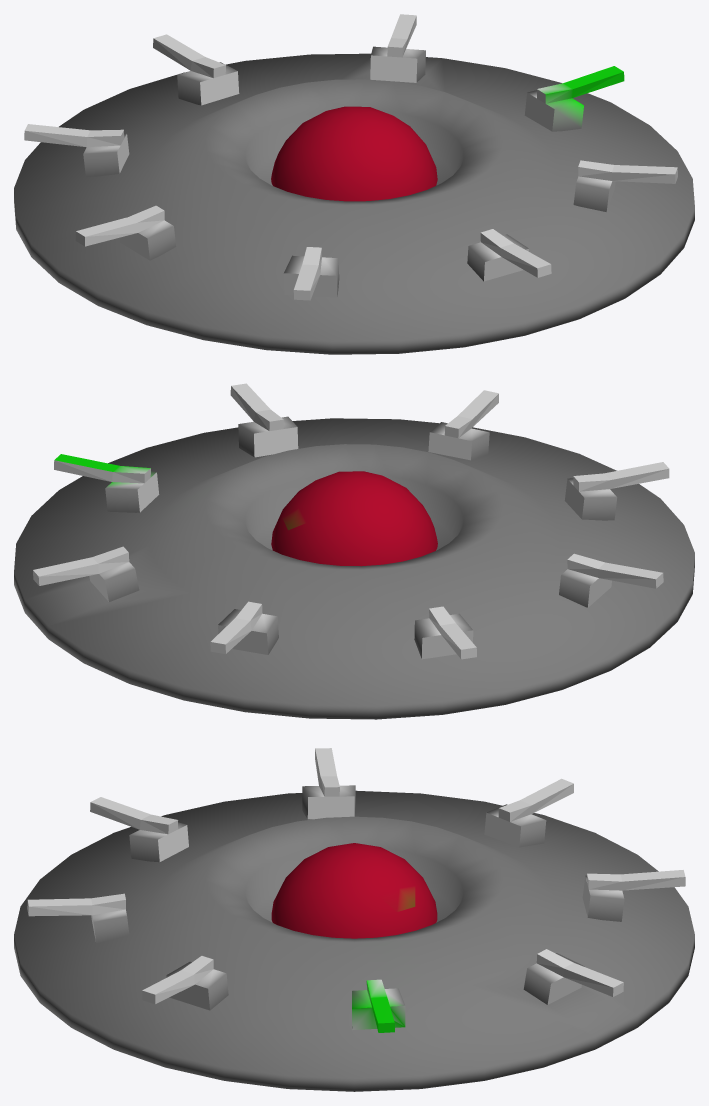
The model's file is MotherShip.fbx.
3 views of the same model, one above another, from view 1: azimuth 30°, elevation 25°; view 2: azimuth 150°, elevation 25°; view 3: azimuth 270°, elevation 25° (orthographic).
Visible parts, largest first — view 1: MotherShip; view 2: MotherShip; view 3: MotherShip.
Boxes of the visible parts, left/top/right/bottom form: MotherShip: left=14, top=14, right=694, bottom=354; MotherShip: left=14, top=383, right=694, bottom=719; MotherShip: left=14, top=748, right=694, bottom=1091.
Size of the model in its own units: 3 by 0.75 by 3.
